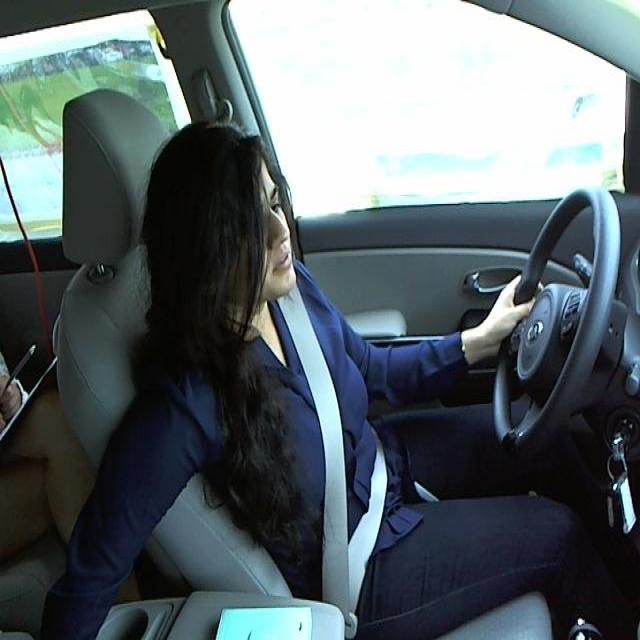seatbelt: (271, 311, 390, 604)
